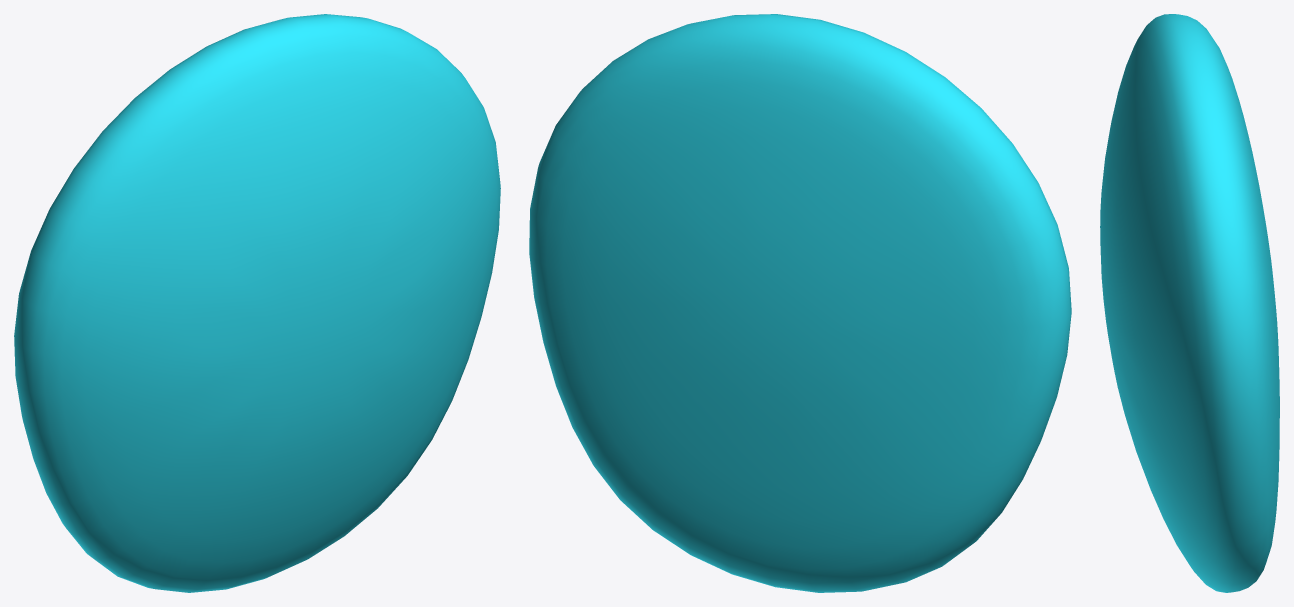
The model's file is Spider65.glb.
3 views of the same model, side by side, from view 1: azimuth 30°, elevation 25°; view 2: azimuth 150°, elevation 25°; view 3: azimuth 270°, elevation 25° (orthographic). The views are drawn at different scales.
Visible parts, largest first — view 1: Butt; view 2: Butt; view 3: Butt.
Part boxes in pixels (box(x1,y1,x2,y2)): Butt: box(14, 14, 500, 592); Butt: box(529, 14, 1071, 592); Butt: box(1100, 14, 1279, 592).
Size of the model in its own units: 0.2441 by 0.2577 by 0.0794.
1 material, 1 textured.
